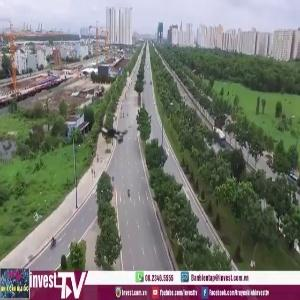drone: (63, 84, 168, 189)
